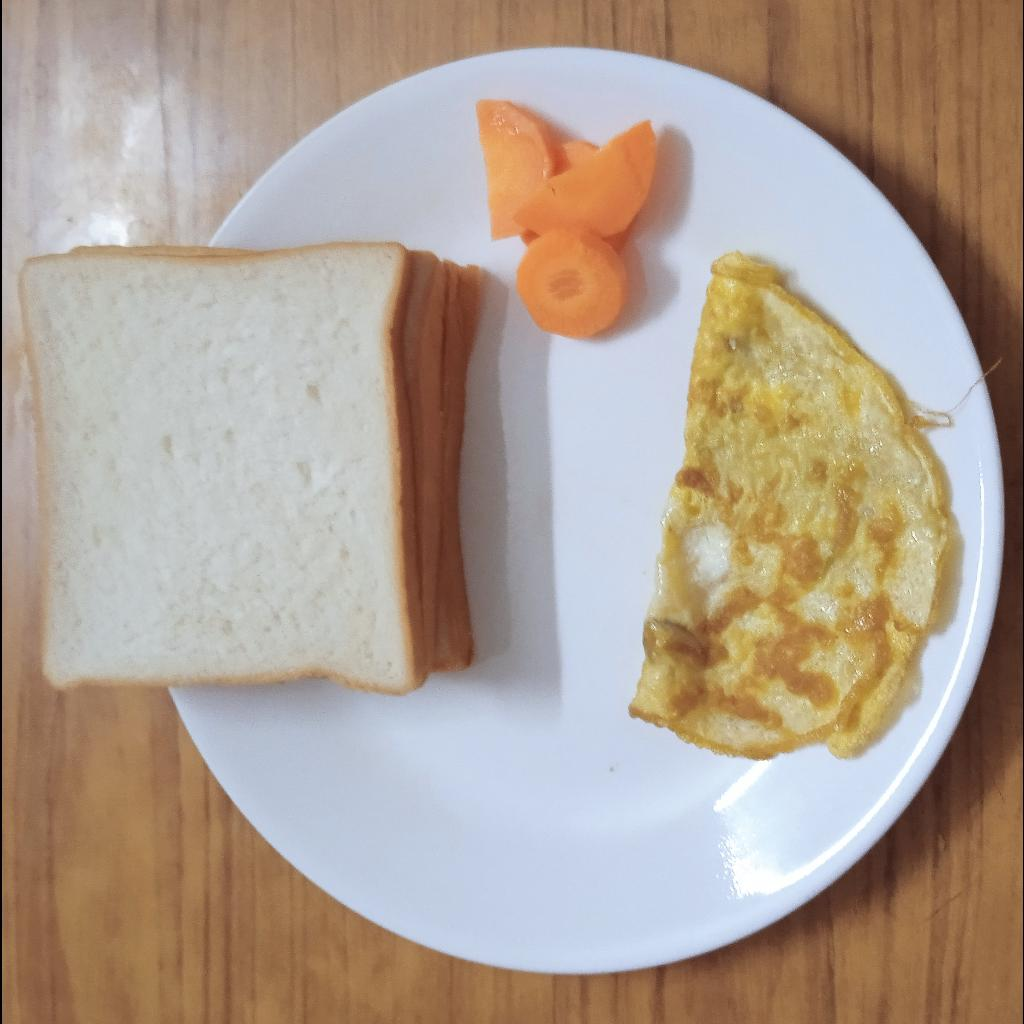bread: (17, 242, 485, 696)
carrot: (474, 98, 654, 339)
egg-poached: (629, 251, 951, 759)
